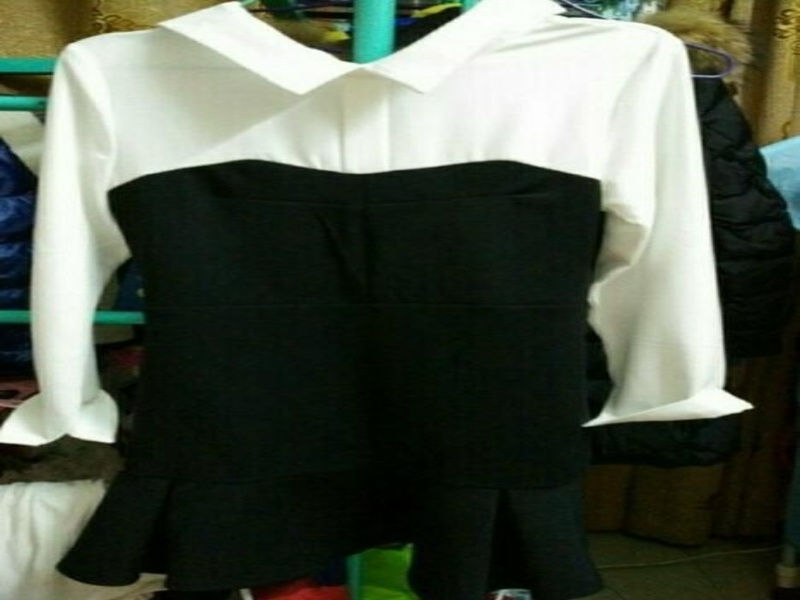long_sleeved_dress: (2, 1, 759, 599)
